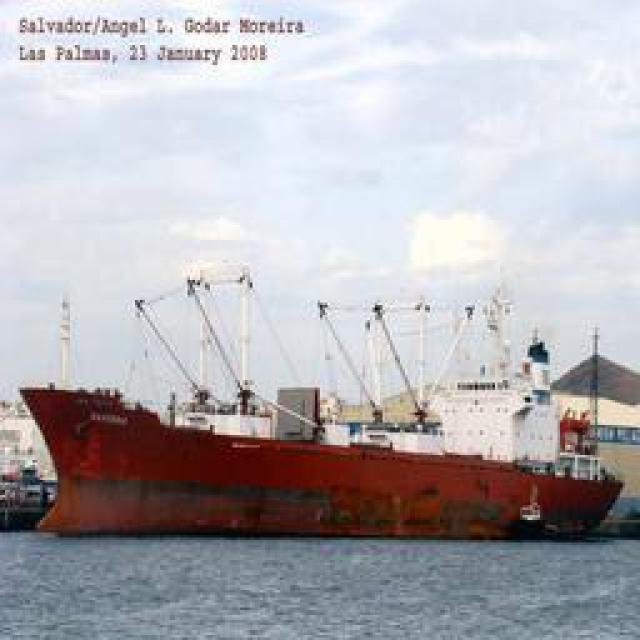Ship: (15, 270, 625, 538)
